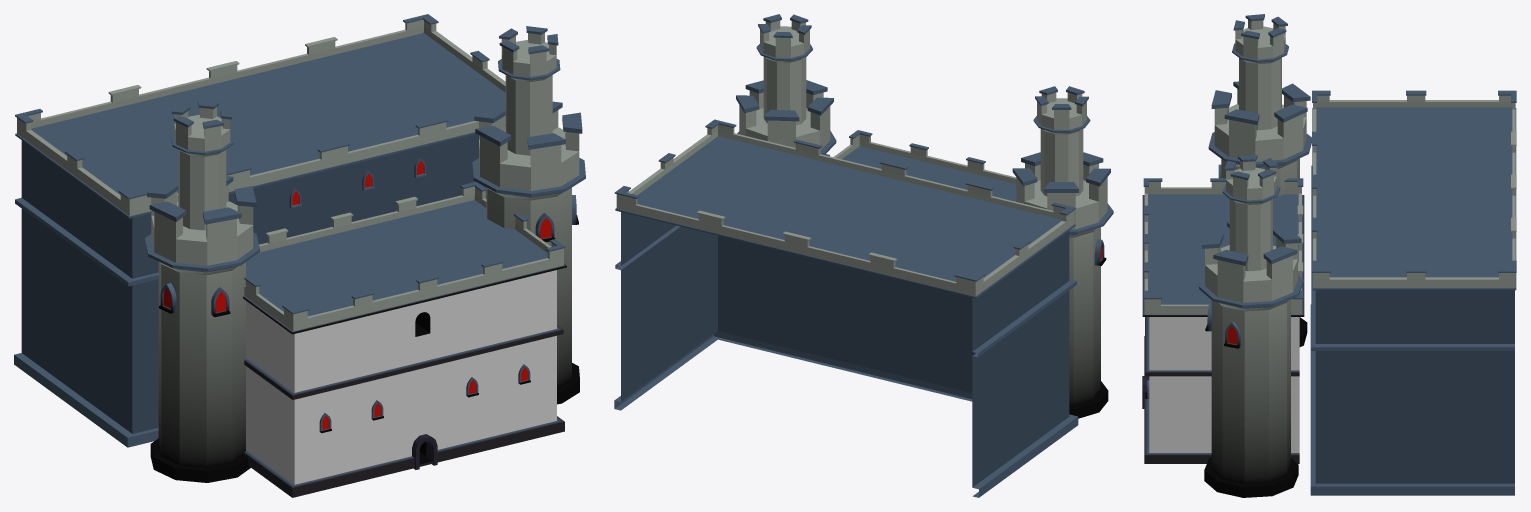
File: Castle Ending.fbx
3 views of the same model, side by side, from view 1: azimuth 30°, elevation 25°; view 2: azimuth 150°, elevation 25°; view 3: azimuth 270°, elevation 25° (orthographic). The views are drawn at different scales.
Visible parts, largest first — view 1: Castle Endings; view 2: Castle Endings; view 3: Castle Endings.
Part boxes in pixels (bbox=[...]): Castle Endings: bbox=[14, 14, 585, 497]; Castle Endings: bbox=[614, 14, 1113, 497]; Castle Endings: bbox=[1142, 14, 1516, 497].
Size of the model in its own units: 115 by 90.23 by 98.17.
